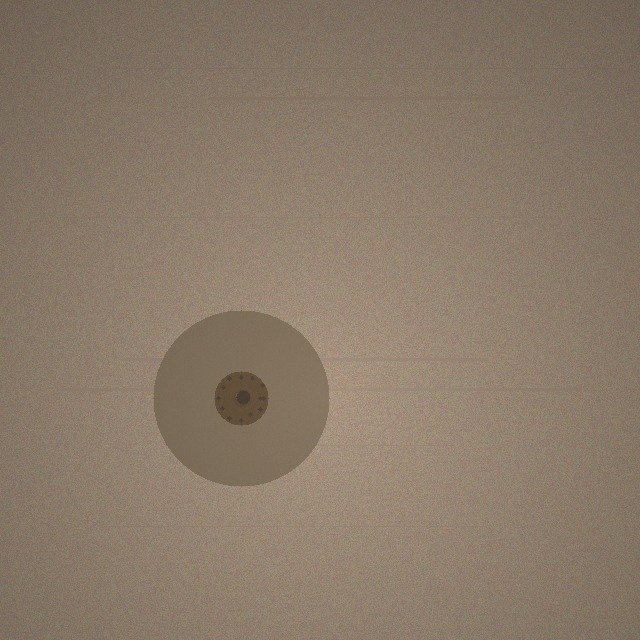cold_weld: (153, 310, 329, 486)
